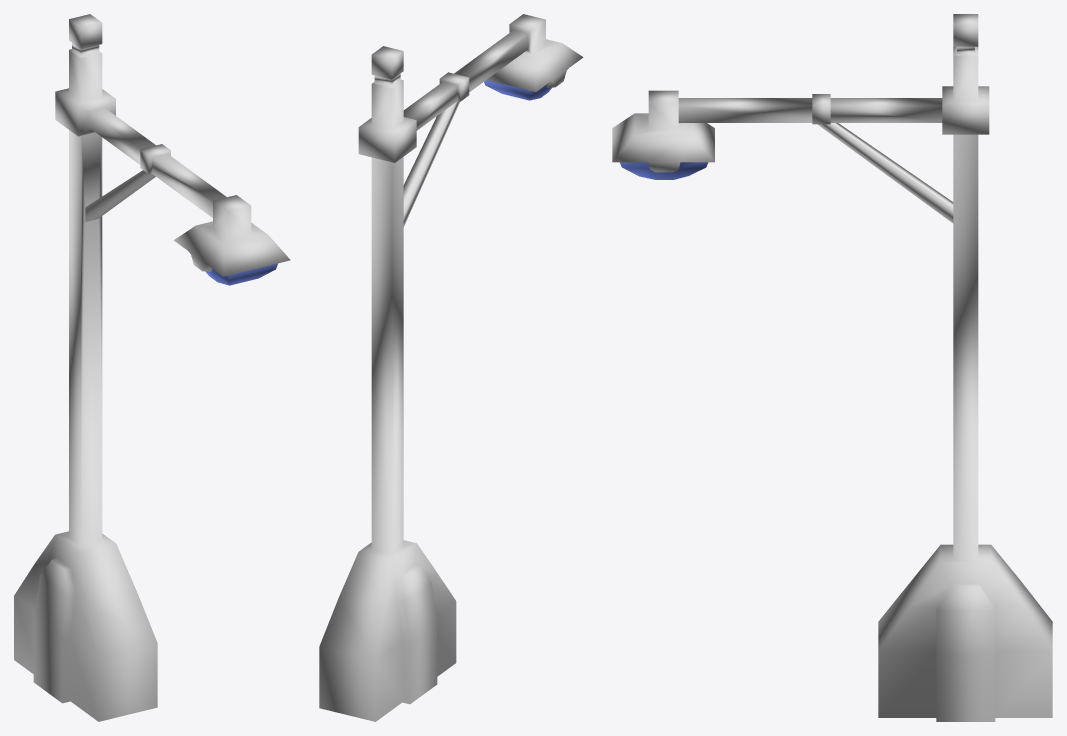
Rendered from Streetlight_LP.fbx.
3 renders of one model, left to right at view 1: azimuth 30°, elevation 25°; view 2: azimuth 150°, elevation 25°; view 3: azimuth 270°, elevation 25°, orthographic. The views are drawn at different scales.
Parts seen in each view (by area): view 1: StreetLight_LP, Crossbar_LP; view 2: StreetLight_LP, Crossbar_LP; view 3: StreetLight_LP, Crossbar_LP.
Boxes of the visible parts, x1,y1,x2,y2 form: StreetLight_LP: (14, 14, 290, 721); Crossbar_LP: (85, 170, 155, 221); StreetLight_LP: (319, 14, 583, 721); Crossbar_LP: (403, 101, 459, 226); StreetLight_LP: (612, 14, 1052, 721); Crossbar_LP: (817, 123, 953, 223).
Bounding box in the file's own units: 58.19 × 488 × 285.
